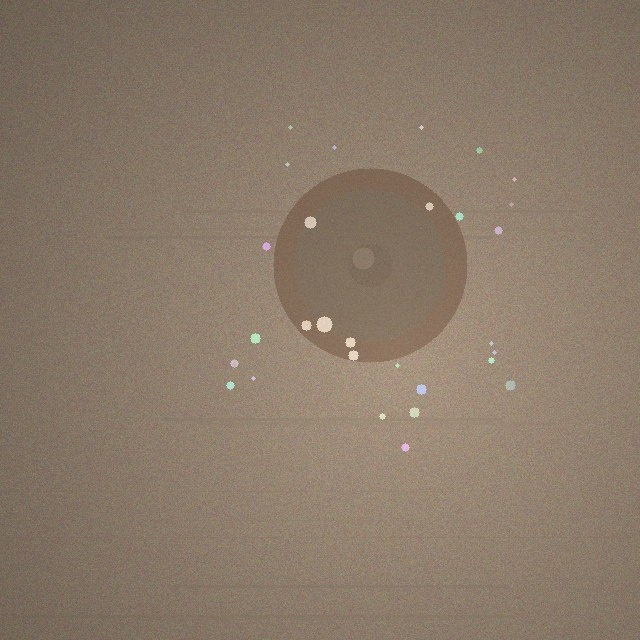overburn: (273, 168, 467, 362)
